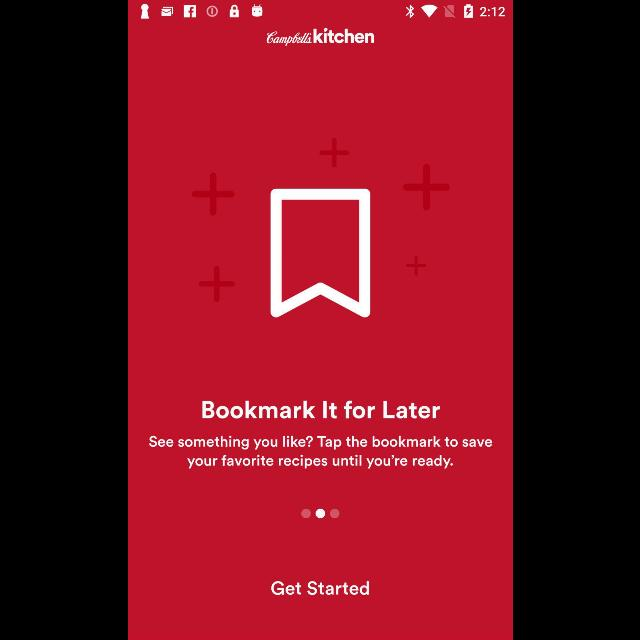image: (191, 138, 449, 318), (266, 28, 374, 46)
pageindicator: (300, 508, 340, 520)
text: (147, 434, 491, 470), (200, 400, 440, 420), (270, 580, 368, 596)
uppertaskbar: (128, 1, 512, 20)
